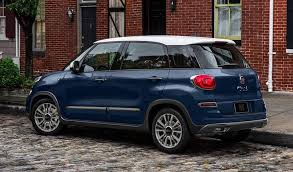car: (27, 35, 268, 151)
